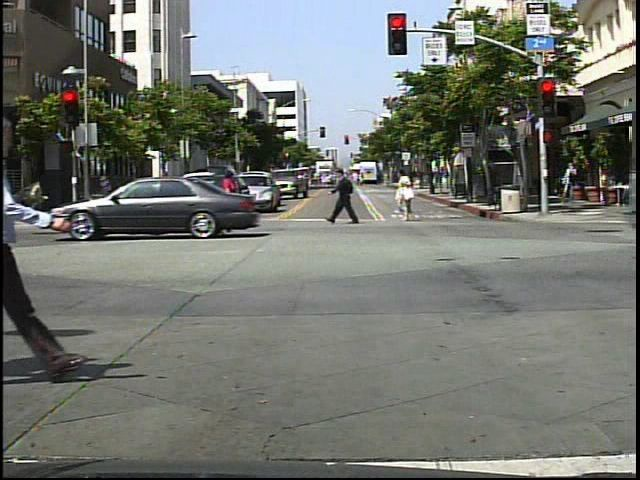person: (335, 161, 365, 230), (389, 163, 420, 227), (212, 168, 244, 227), (561, 159, 583, 209)
